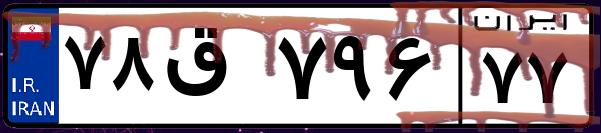6: (385, 28, 445, 110)
7: (270, 28, 330, 110), (57, 26, 110, 100), (475, 38, 525, 113), (525, 38, 570, 115)
8: (110, 28, 158, 98)
9: (330, 28, 385, 110)
ق: (158, 20, 270, 120)
